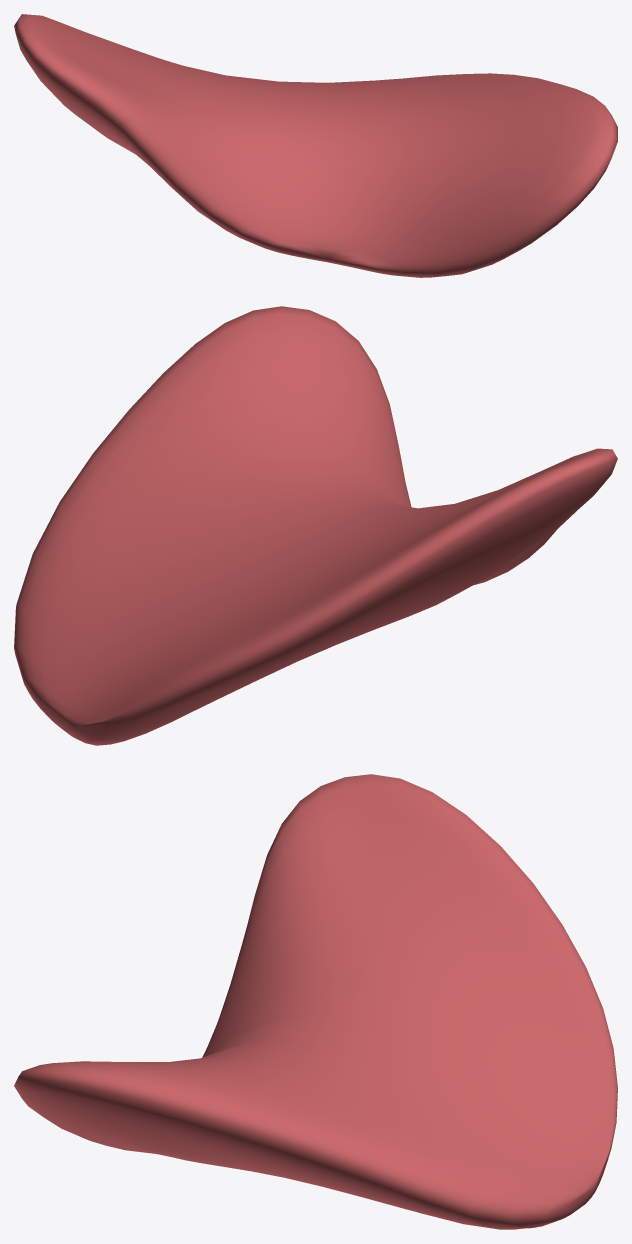
3 views of the same model, one above another, from view 1: azimuth 30°, elevation 25°; view 2: azimuth 150°, elevation 25°; view 3: azimuth 270°, elevation 25° (orthographic). The views are drawn at different scales.
Visible parts, largest first — view 1: 左侧股二头肌上囊; view 2: 左侧股二头肌上囊; view 3: 左侧股二头肌上囊.
Part boxes in pixels (bbox=[...]): 左侧股二头肌上囊: bbox=[14, 14, 617, 277]; 左侧股二头肌上囊: bbox=[14, 306, 617, 745]; 左侧股二头肌上囊: bbox=[14, 774, 617, 1229].
Size of the model in its own units: 0.0294 by 0.0153 by 0.0317.
